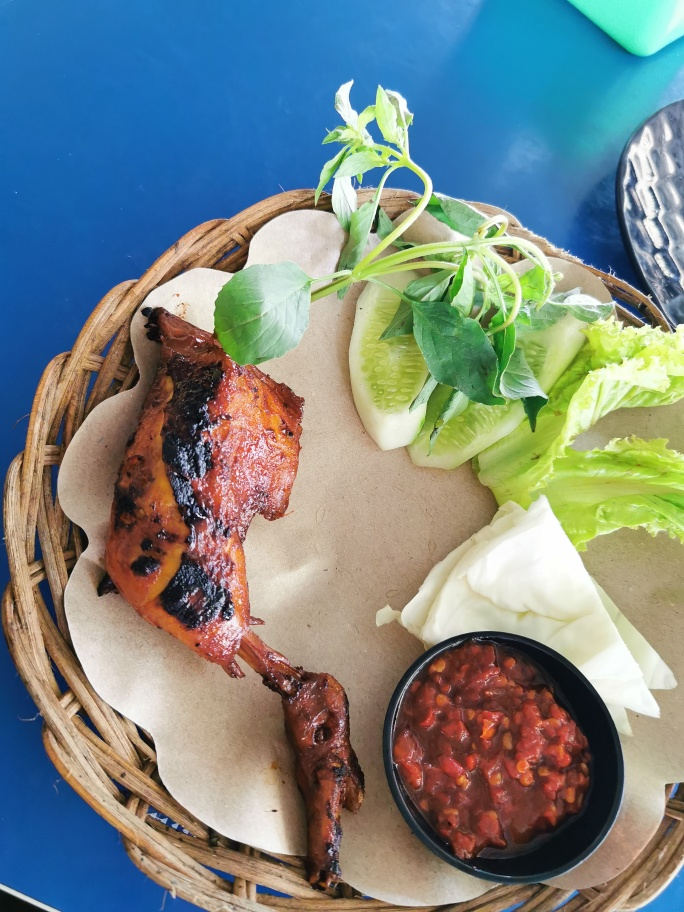ayam bakar: (89, 294, 389, 886)
